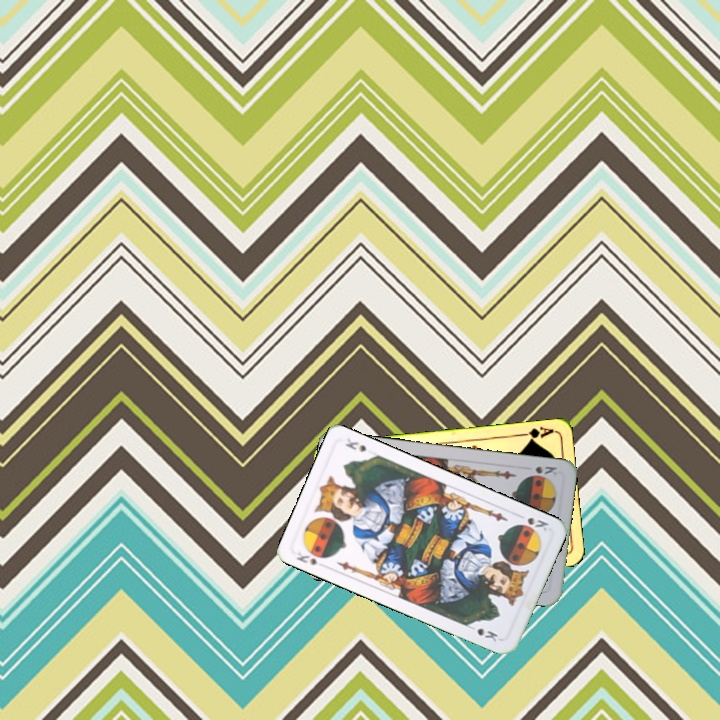GA: (515, 423, 556, 444)
SK: (513, 510, 551, 534), (292, 545, 330, 569), (531, 462, 561, 478)
